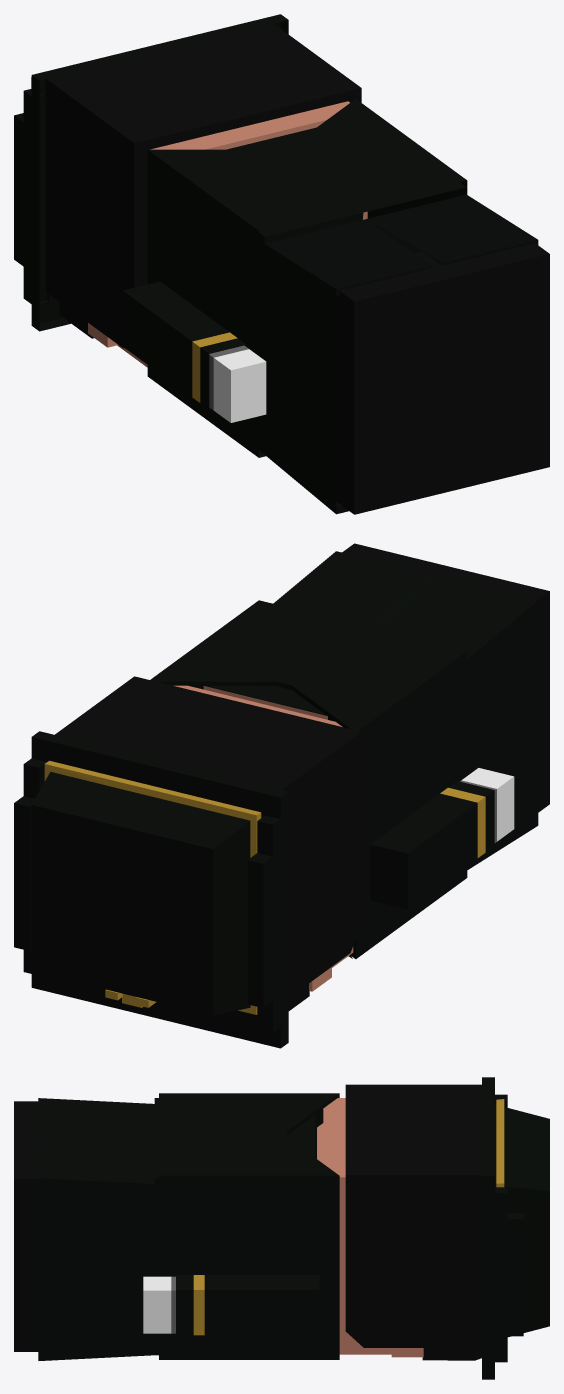
The model's file is SK_Janggyo_A01.FBX.
The picture shows the model from 3 angles, top to bottom: view 1: azimuth 30°, elevation 25°; view 2: azimuth 150°, elevation 25°; view 3: azimuth 270°, elevation 25°; orthographic projection. The views are drawn at different scales.
Parts seen in each view (by area): view 1: Object020; view 2: Object020; view 3: Object020.
Boxes of the visible parts, bbox=[...] form: Object020: bbox=[14, 14, 549, 514]; Object020: bbox=[14, 543, 549, 1048]; Object020: bbox=[14, 1077, 549, 1379].
Size of the model in its own units: 23.16 by 19.45 by 46.37.
